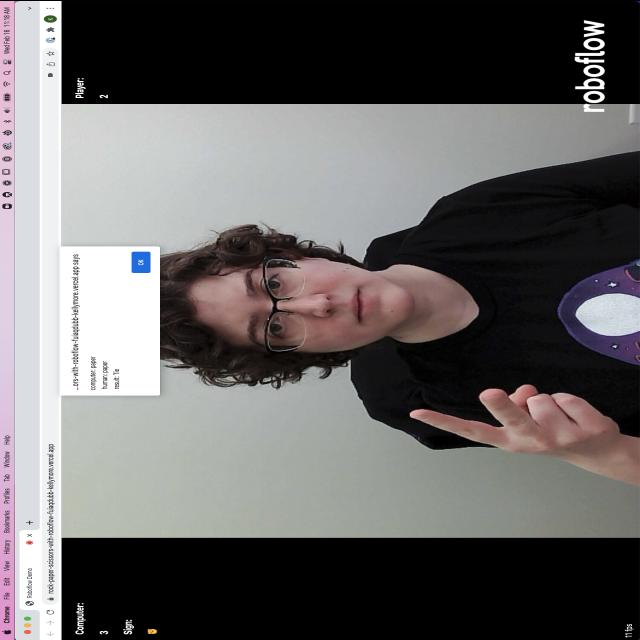Paper: (392, 380, 636, 472)
